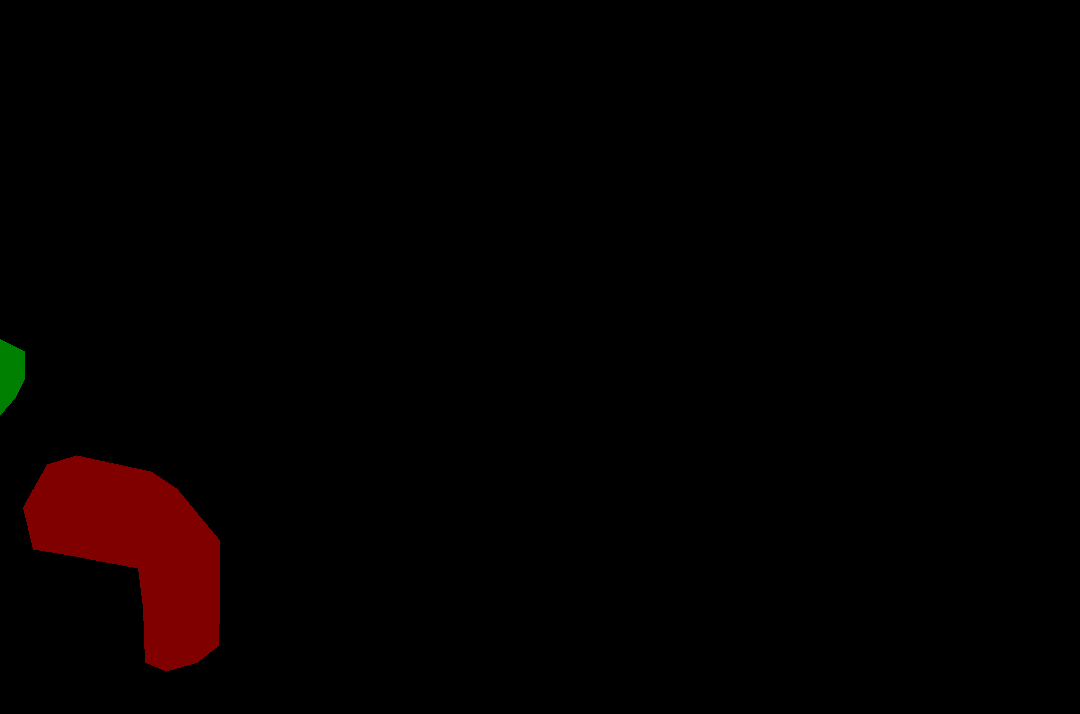fire: (23, 455, 219, 671), (0, 339, 24, 414)
